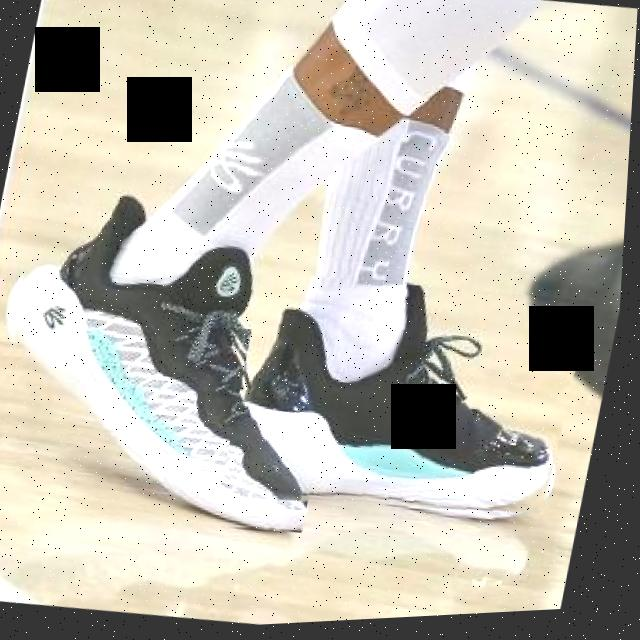shoe: (0, 173, 370, 550), (223, 262, 598, 546)
